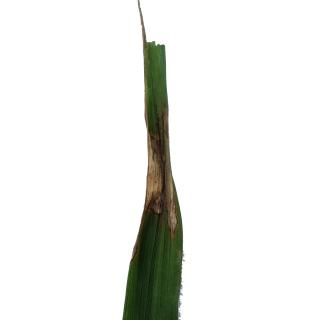Hawar-Daun: (148, 106, 170, 225)
